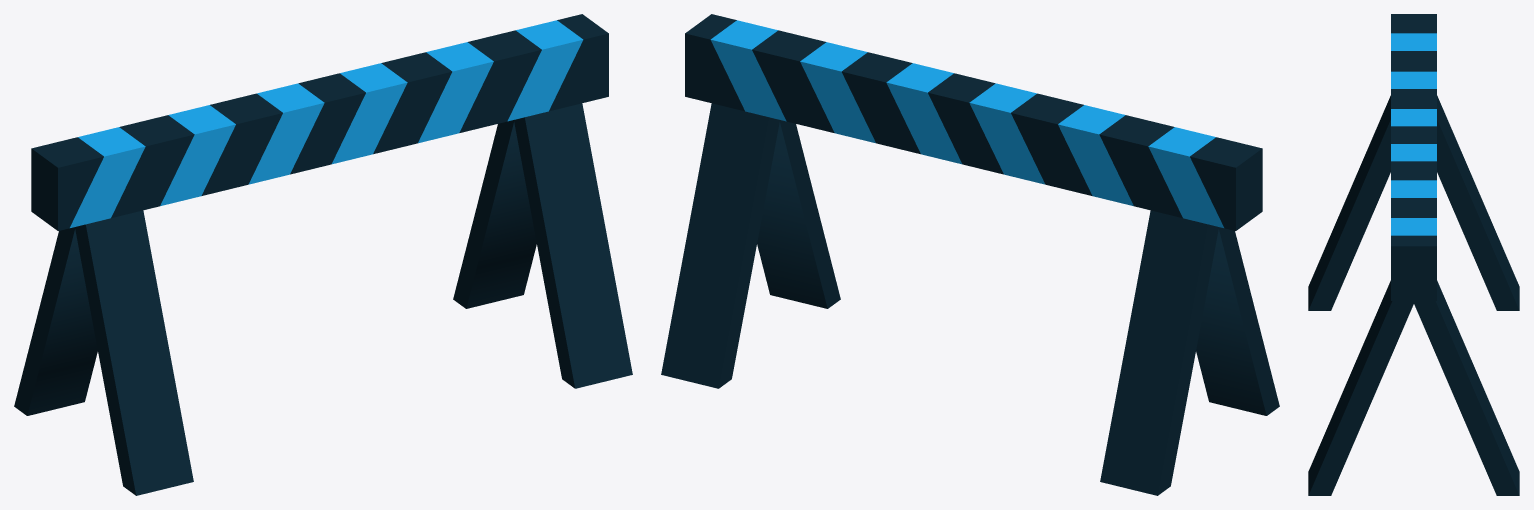
Rendered from Wood_shield.FBX.
3 views of the same model, side by side, from view 1: azimuth 30°, elevation 25°; view 2: azimuth 150°, elevation 25°; view 3: azimuth 270°, elevation 25° (orthographic). The views are drawn at different scales.
Visible parts, largest first — view 1: Box1318; view 2: Box1318; view 3: Box1318.
Part boxes in pixels (x1,y1,x2,y2): Box1318: [14, 14, 632, 495]; Box1318: [661, 14, 1279, 495]; Box1318: [1308, 14, 1519, 495].
Bounding box in the file's own units: 21.09 × 10.99 × 8.1.
